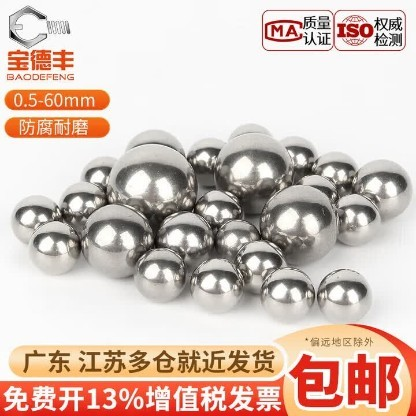ironball: (105, 142, 197, 221), (213, 131, 293, 214), (258, 184, 338, 265), (79, 202, 153, 278), (351, 158, 411, 221), (154, 210, 213, 271), (316, 267, 372, 323), (188, 257, 244, 313), (259, 265, 314, 322), (132, 246, 186, 302), (27, 220, 80, 275), (233, 239, 286, 294), (58, 180, 107, 235), (9, 194, 61, 244), (334, 192, 380, 246), (310, 150, 358, 197), (192, 188, 243, 231), (214, 218, 260, 262), (186, 136, 225, 187), (278, 135, 317, 183), (124, 128, 185, 157), (79, 155, 117, 190), (294, 173, 338, 203), (227, 122, 272, 141)
